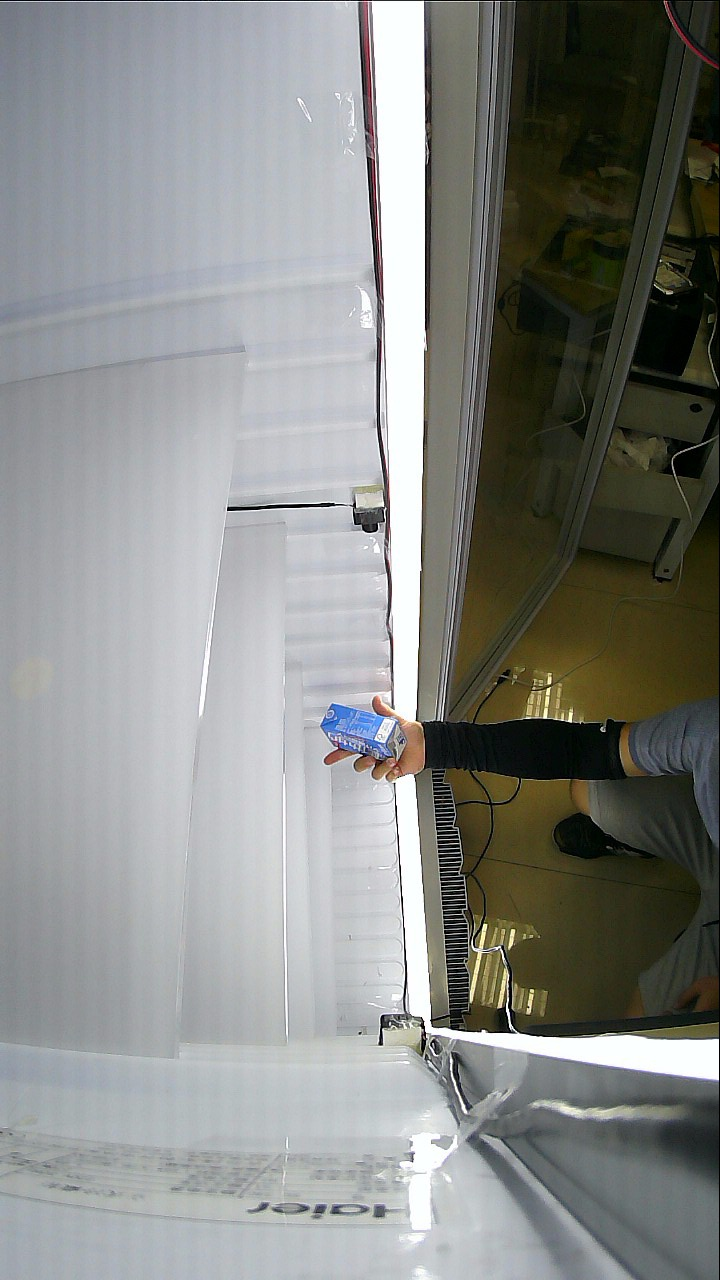VitaSoyOriginal: (325, 701, 526, 784)
